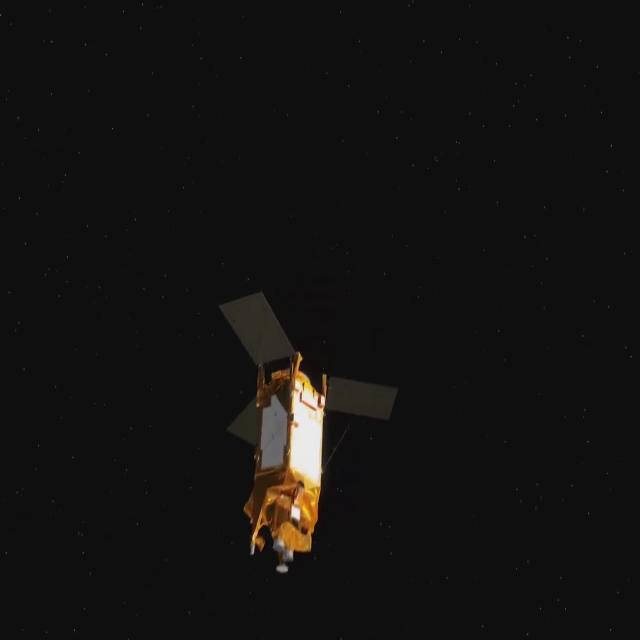medium_debris: (205, 241, 394, 585)
